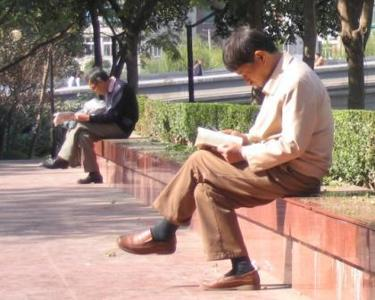person: (115, 25, 336, 290)
